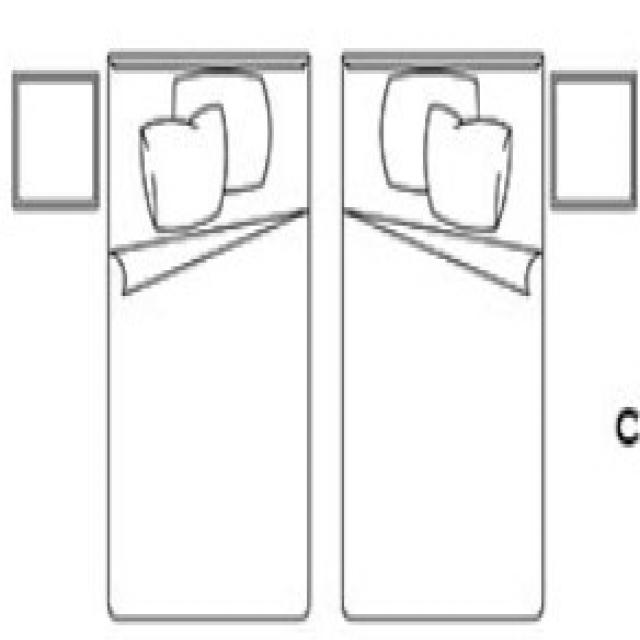bed: (11, 41, 636, 614)
